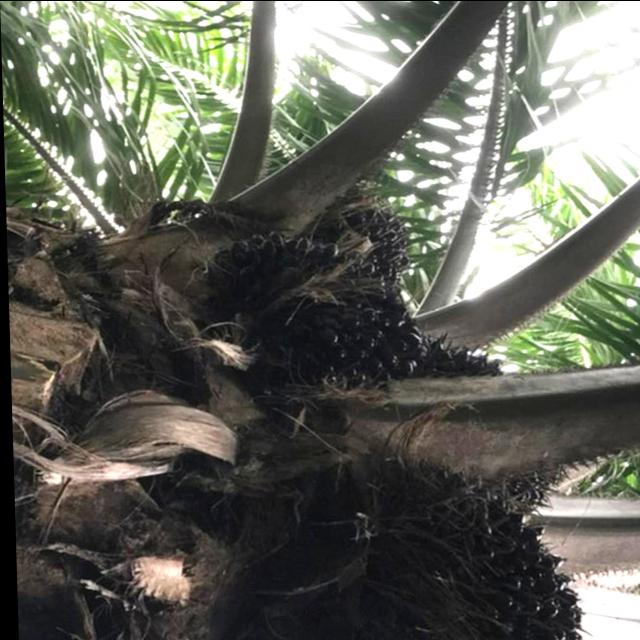almost: (194, 228, 437, 417)
